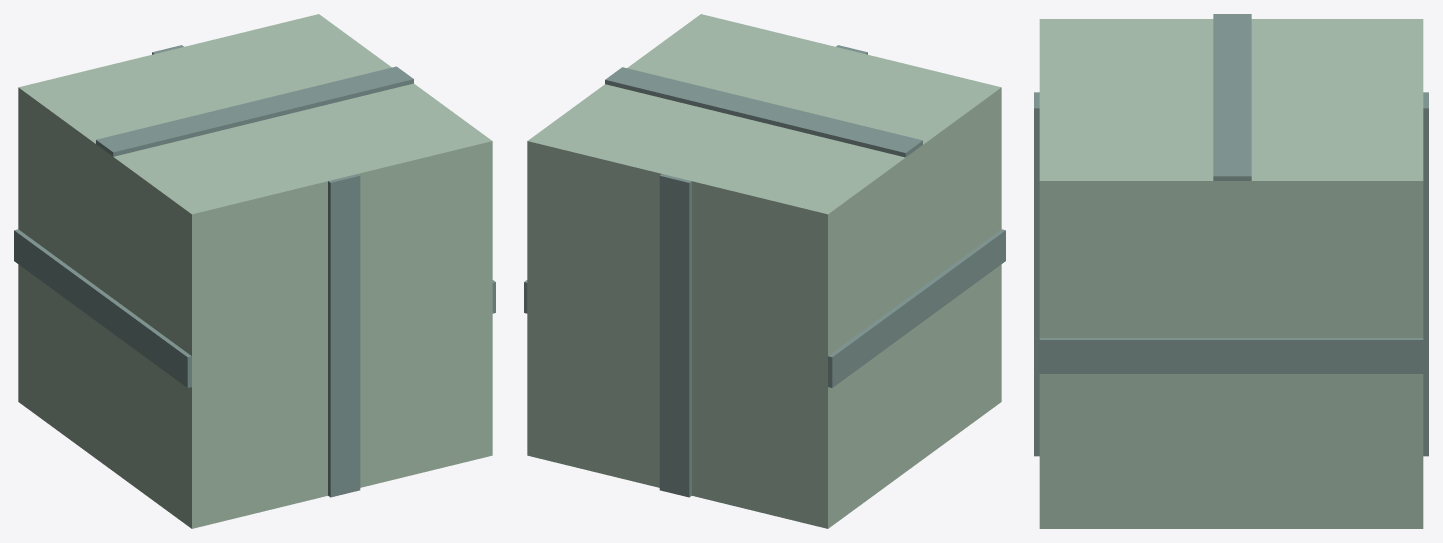
The model's file is box_heavy.fbx.
3 renders of one model, left to right at view 1: azimuth 30°, elevation 25°; view 2: azimuth 150°, elevation 25°; view 3: azimuth 270°, elevation 25°, orthographic. The views are drawn at different scales.
Parts seen in each view (by area): view 1: Cube.001; view 2: Cube.001; view 3: Cube.001.
Part boxes in pixels (x1,y1,x2,y2): Cube.001: [14, 14, 495, 528]; Cube.001: [524, 14, 1005, 528]; Cube.001: [1034, 14, 1428, 528].
Bounding box in the file's own units: 205 × 203 × 206.
